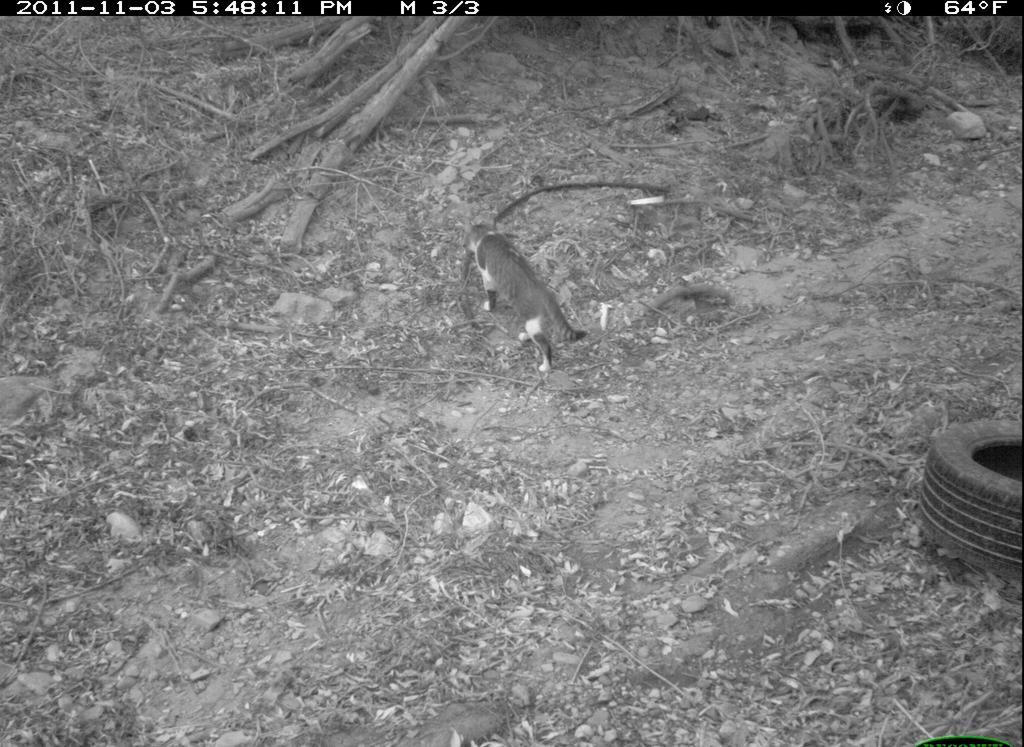cat: (463, 219, 596, 376)
